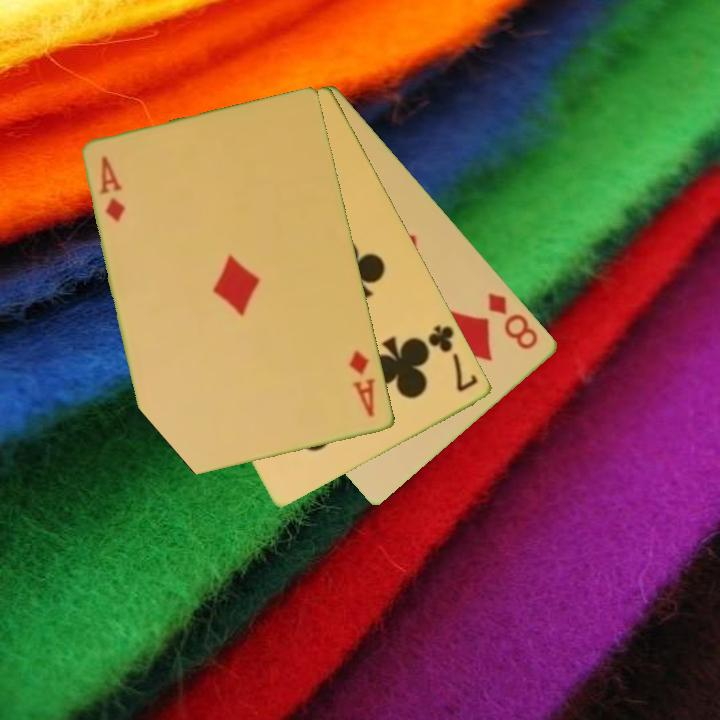7c: (424, 321, 482, 395)
8d: (485, 289, 542, 353)
Ad: (346, 347, 379, 420), (96, 153, 128, 225)
